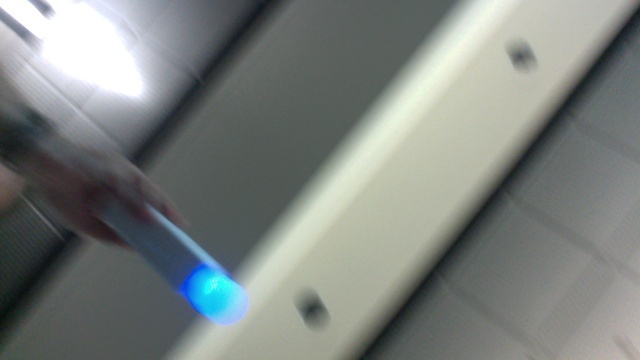wand: (191, 271, 247, 325)
